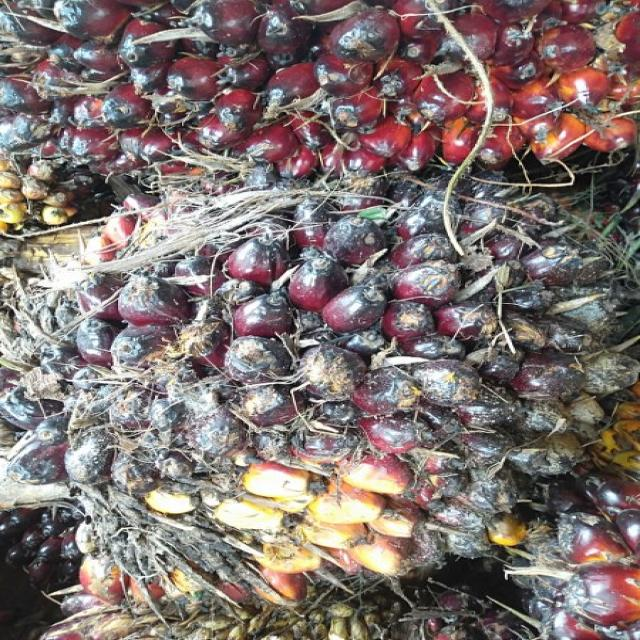fraksi 00: (19, 98, 633, 582)
